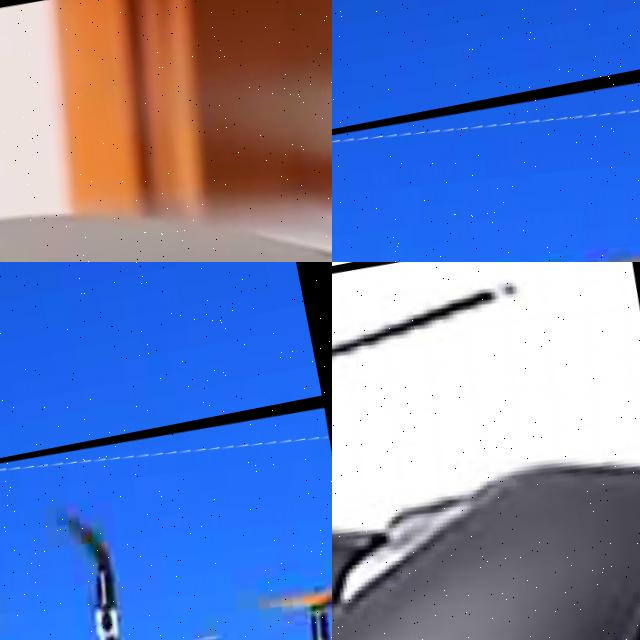0: (0, 395, 332, 640), (332, 59, 640, 262)
drone: (332, 262, 640, 640), (0, 0, 332, 262)
